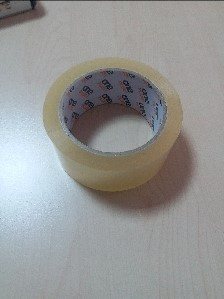band: (40, 48, 193, 196)
